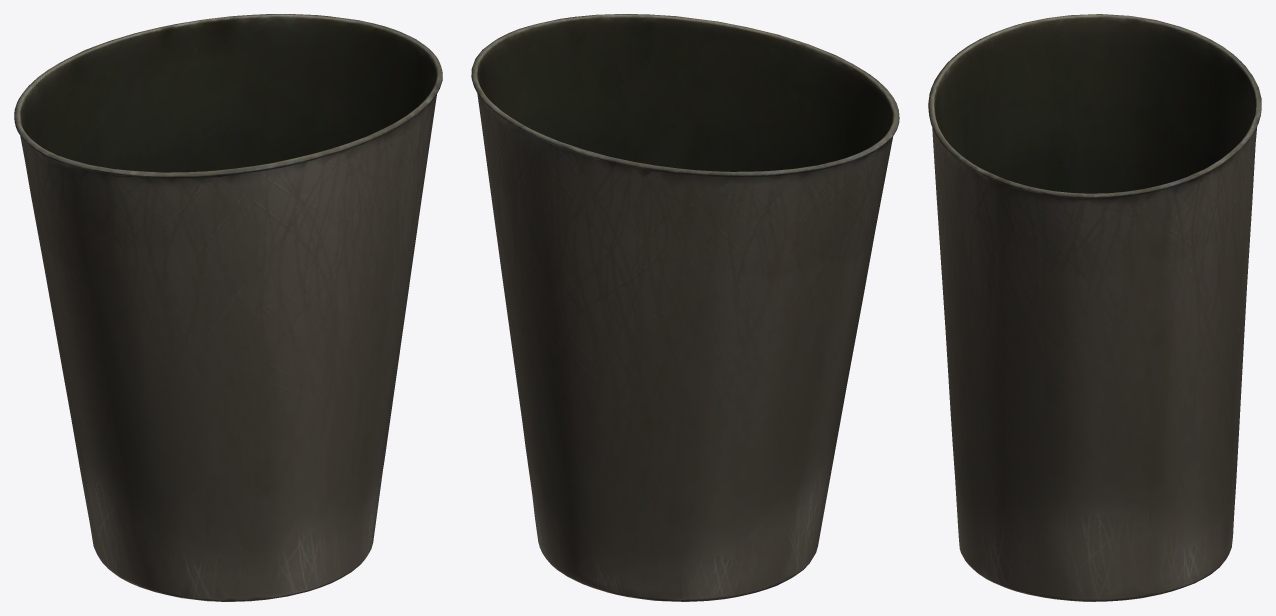
Rendered from Hefty_Waste_Basket_Decorative_Bronze_85_liter.glb.
3 renders of one model, left to right at view 1: azimuth 30°, elevation 25°; view 2: azimuth 150°, elevation 25°; view 3: azimuth 270°, elevation 25°, orthographic. The views are drawn at different scales.
Parts seen in each view (by area): view 1: model.obj; view 2: model.obj; view 3: model.obj.
Part boxes in pixels (x1,y1,x2,y2): model.obj: [14, 14, 442, 601]; model.obj: [471, 14, 899, 601]; model.obj: [928, 14, 1261, 601].
Bounding box in the file's own units: 0.9016 × 1 × 0.6801.
1 material, 1 textured.
